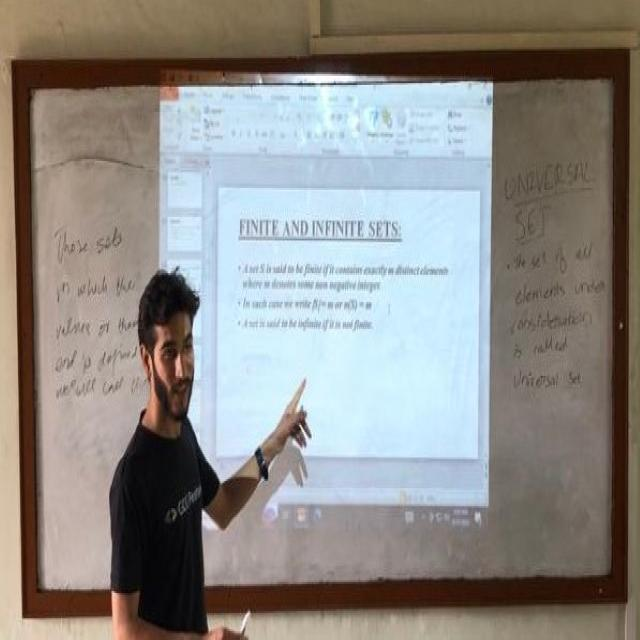Instructor: (108, 241, 207, 625)
Slide: (152, 67, 492, 541)
White-board: (21, 58, 621, 607)
